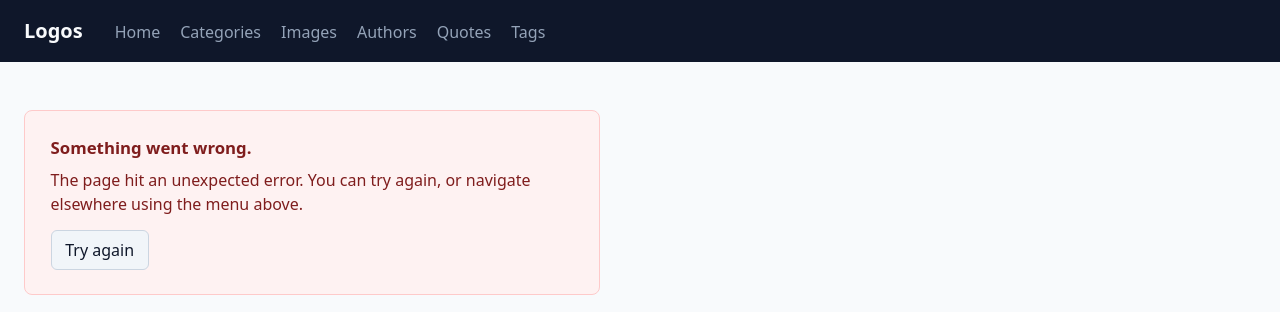
Scenario: Layout › recovers after navigating away from a crashing route
Check: the heading "Something went wrong." is shown, box [51,136,252,159]
Click the link "Home". click: (137, 32)
box: [115,20,160,44]
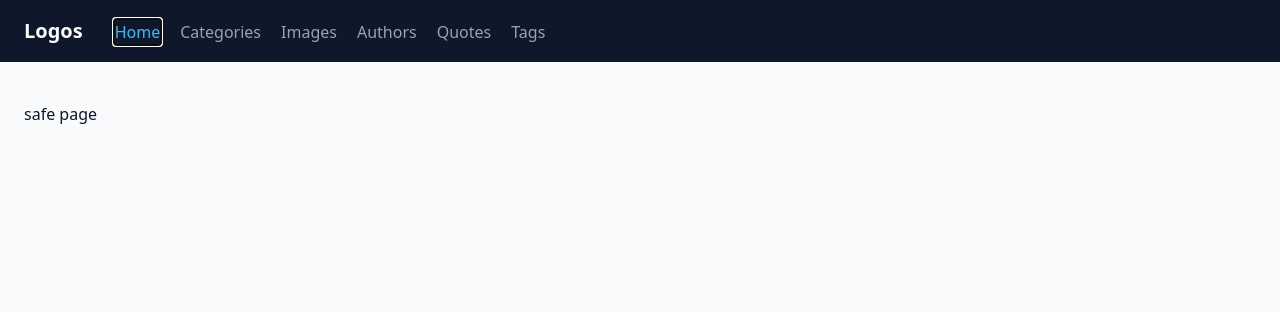
Check: the text "safe page" is shown, box [24,103,97,125]
Check: the heading "Something went wrong" is gone
